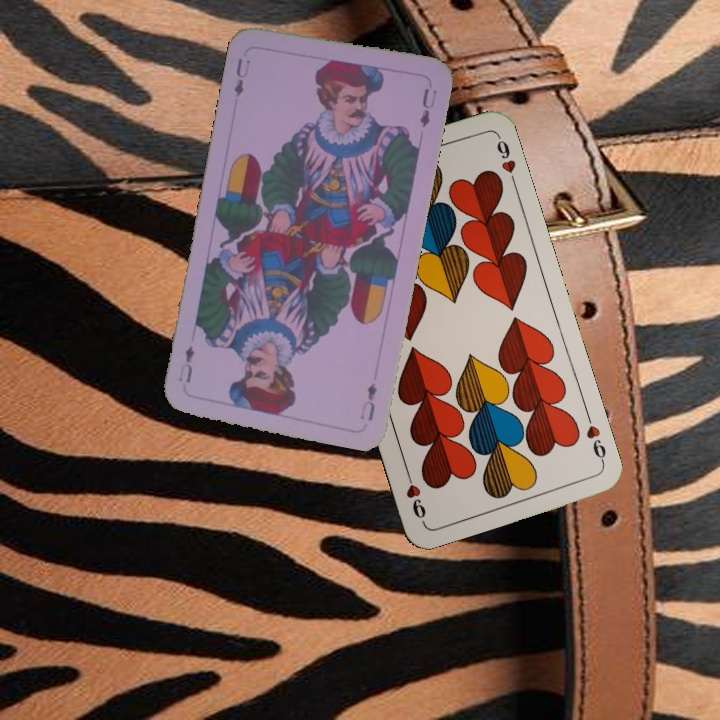EU: (229, 53, 253, 105), (355, 379, 380, 424)
H9: (582, 409, 609, 467)
